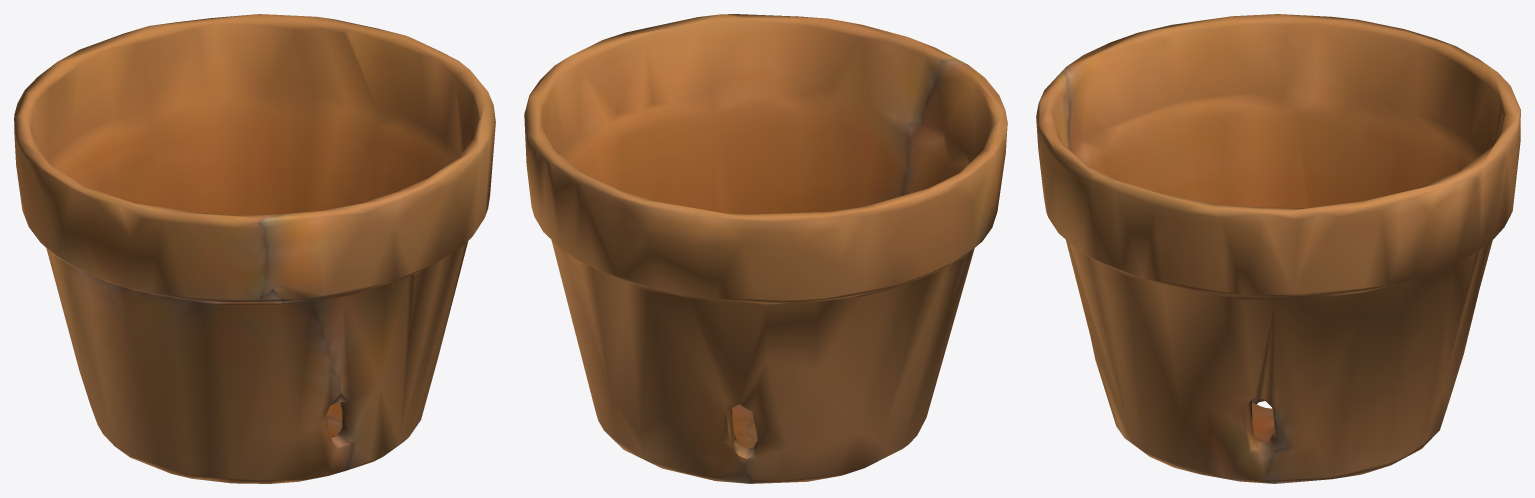
File: Cole_Hardware_Orchid_Pot_85-medium.glb
3 views of the same model, side by side, from view 1: azimuth 30°, elevation 25°; view 2: azimuth 150°, elevation 25°; view 3: azimuth 270°, elevation 25° (orthographic).
Visible parts, largest first — view 1: Cole_Hardware_Orchid_Pot_85; view 2: Cole_Hardware_Orchid_Pot_85; view 3: Cole_Hardware_Orchid_Pot_85.
Boxes of the visible parts, x1,y1,x2,y2 form: Cole_Hardware_Orchid_Pot_85: (14, 14, 495, 483); Cole_Hardware_Orchid_Pot_85: (524, 14, 1007, 483); Cole_Hardware_Orchid_Pot_85: (1036, 14, 1520, 483).
Size of the model in its own units: 0.2107 by 0.1478 by 0.2099.
Materials: 1 (1 with a texture image).
